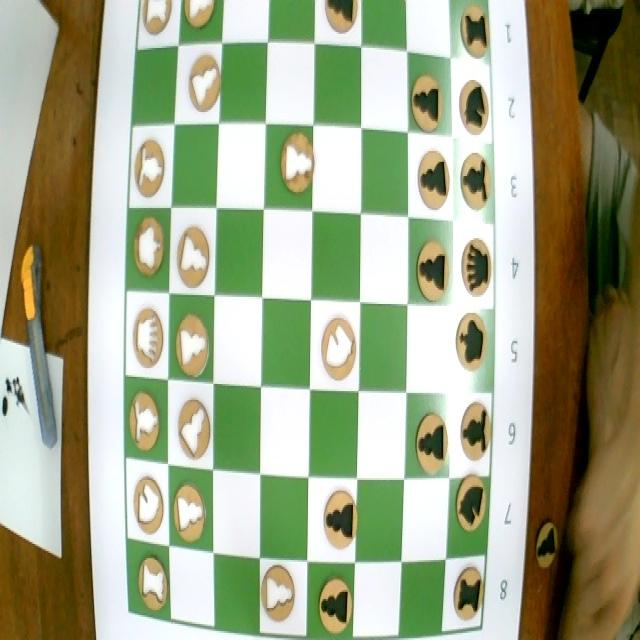chess-pieces: (316, 312, 359, 391), (321, 486, 366, 560), (171, 391, 213, 466), (258, 559, 301, 627), (173, 223, 213, 296), (129, 214, 168, 288), (456, 147, 497, 214), (279, 126, 318, 195), (171, 478, 208, 550), (314, 573, 358, 632), (132, 548, 170, 616), (174, 312, 210, 382), (127, 388, 163, 454), (411, 71, 448, 135), (459, 397, 493, 466), (131, 471, 165, 540), (456, 308, 489, 379), (452, 565, 491, 625), (187, 55, 224, 118), (417, 410, 451, 478), (416, 146, 452, 210), (416, 232, 450, 297), (130, 307, 166, 368), (457, 78, 495, 135), (458, 239, 496, 296), (458, 5, 494, 64), (134, 137, 167, 201), (454, 474, 488, 534), (322, 0, 361, 33), (142, 0, 172, 37), (180, 0, 216, 30)
